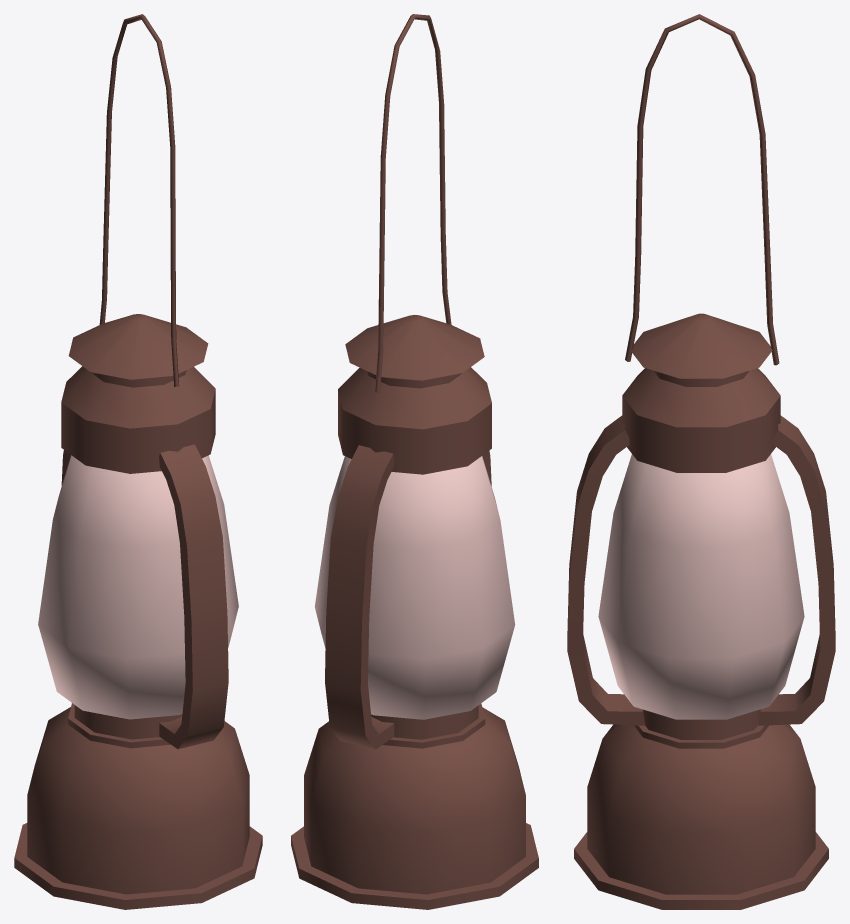
File: SM_OilLamp_02.fbx
3 views of the same model, side by side, from view 1: azimuth 30°, elevation 25°; view 2: azimuth 150°, elevation 25°; view 3: azimuth 270°, elevation 25° (orthographic).
Visible parts, largest first — view 1: BézierCurve.001; view 2: BézierCurve.001; view 3: BézierCurve.001.
Boxes of the visible parts, x1=… form: BézierCurve.001: x1=14, y1=14, x2=262, y2=909; BézierCurve.001: x1=291, y1=14, x2=538, y2=909; BézierCurve.001: x1=567, y1=14, x2=835, y2=909.
Size of the model in its own units: 15.38 by 59.24 by 17.04.
